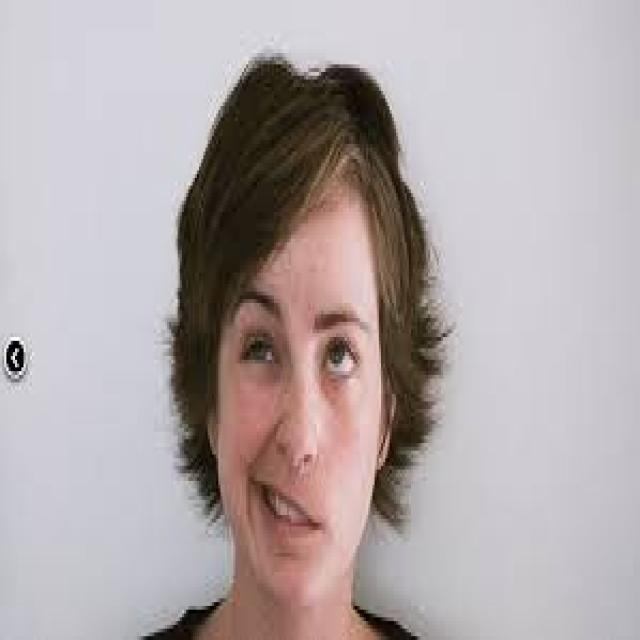stroke_face: (199, 69, 405, 612)
